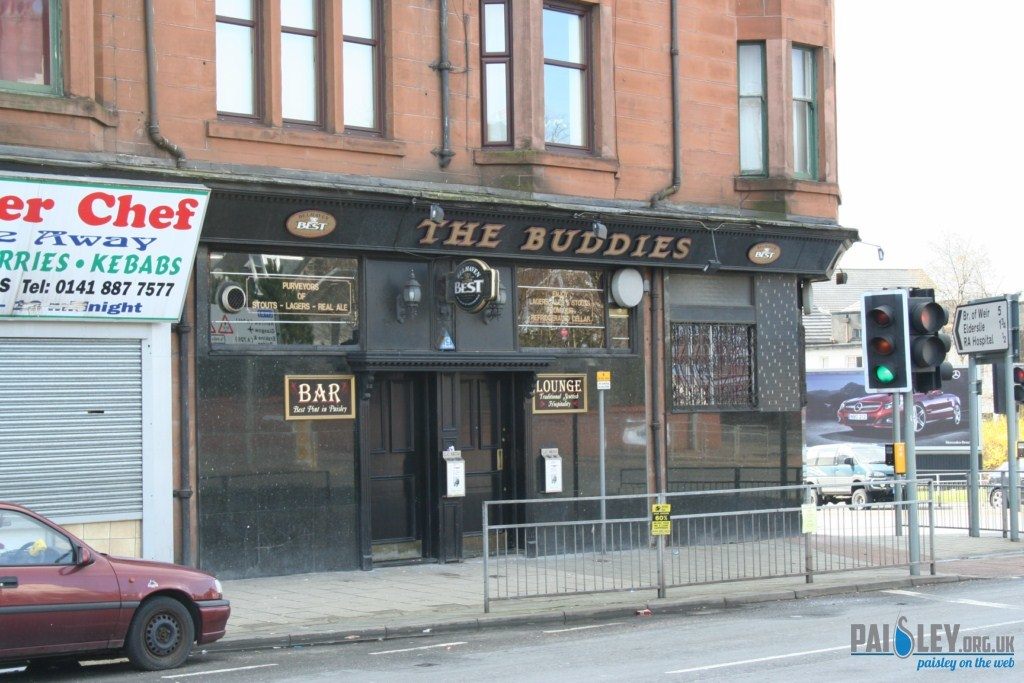green_light: (867, 355, 902, 389)
